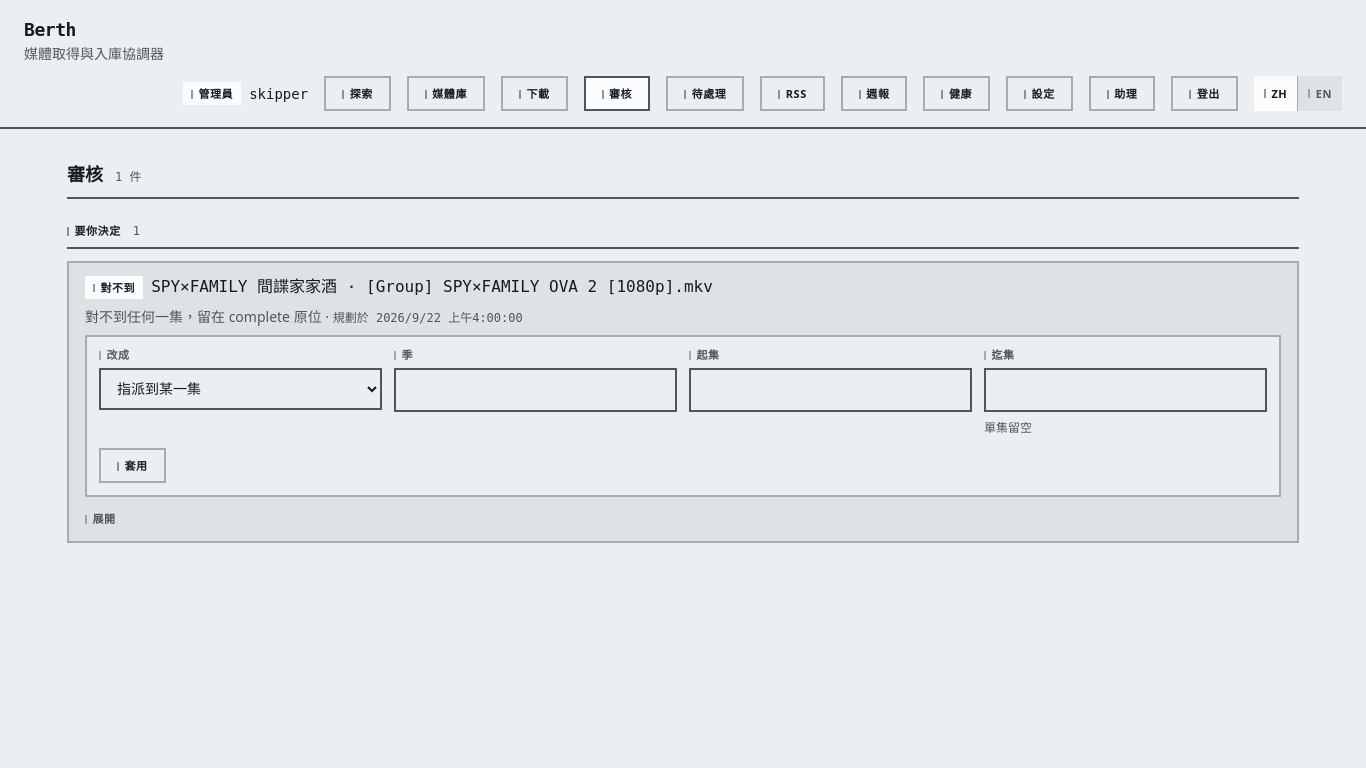
Scenario: 對不到的檔案 › 擋下來時就地說理由與原文
The width and height of the screenshot is (1366, 768).
Type "1" into the number field labelled "季" at (536, 390), box [394,368,677,412]
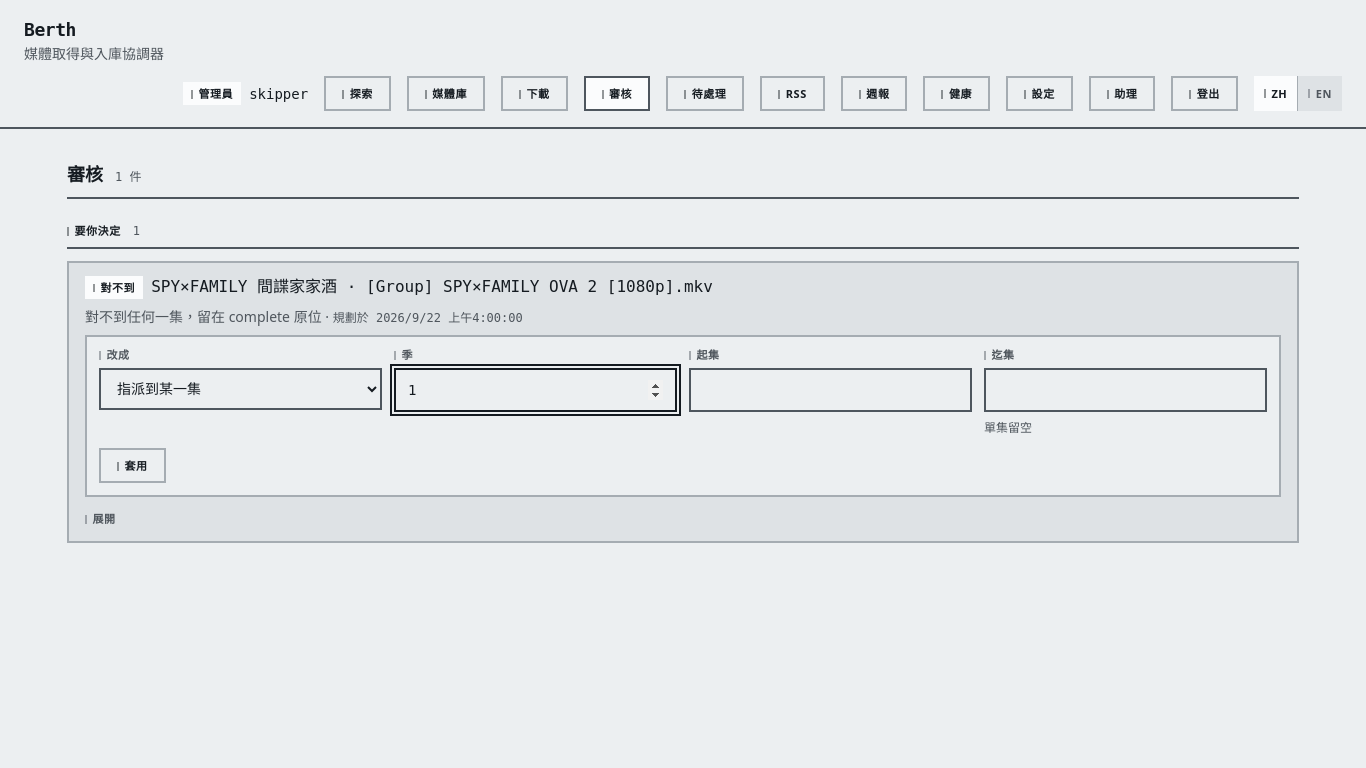
Type "2" into the number field labelled "起集" at (830, 390), box [689,368,972,412]
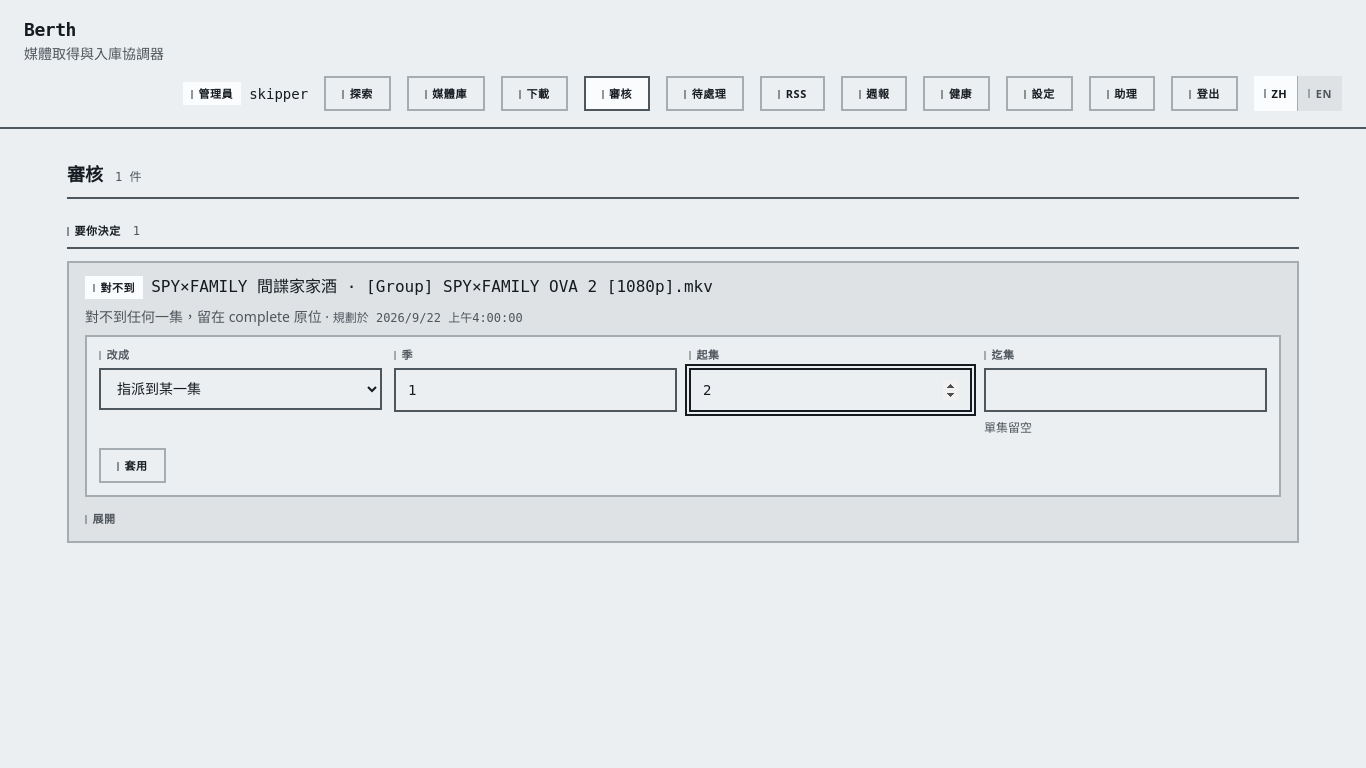
Click the button "套用" at (132, 466), box [99,448,166,483]
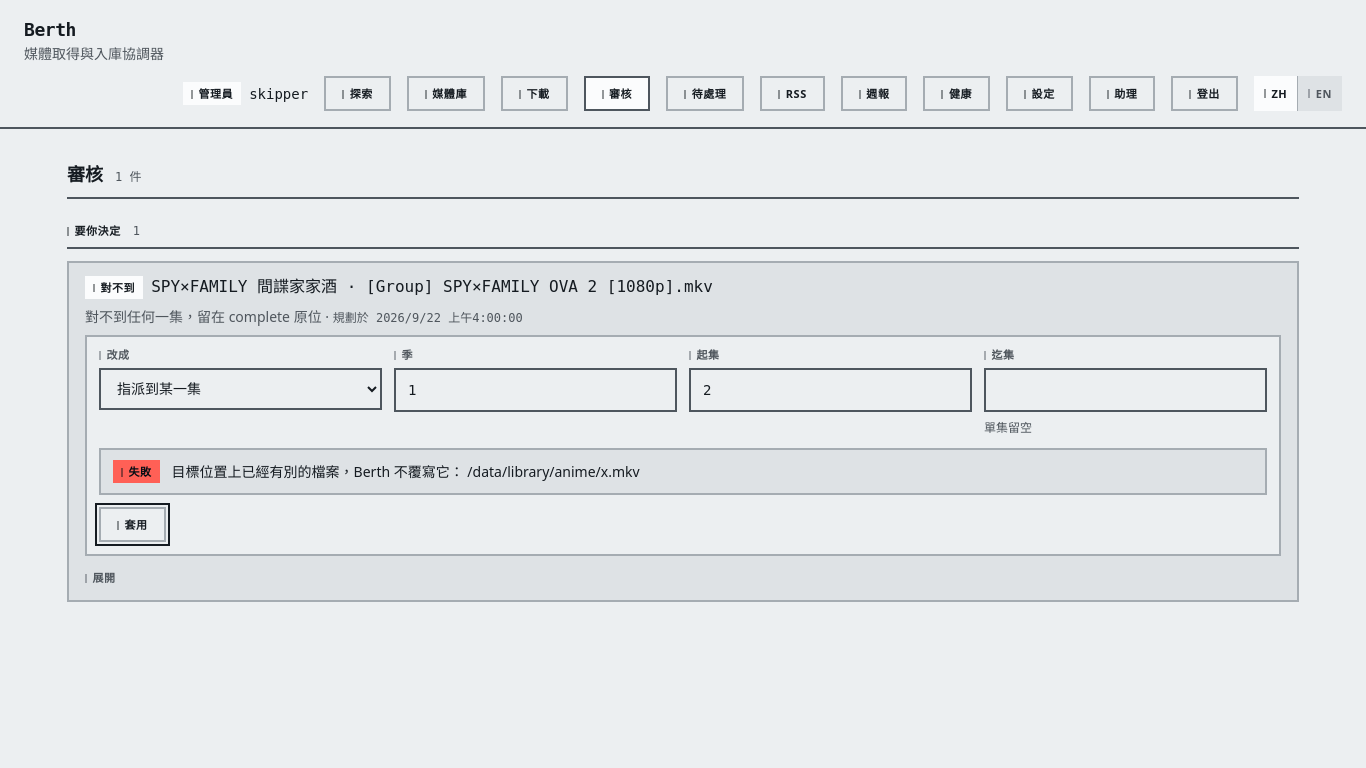
Result: the text "目標位置上已經有別的檔案，Berth 不覆寫它： /data/library/anime/x.mkv" is shown at [172,462,640,480]
